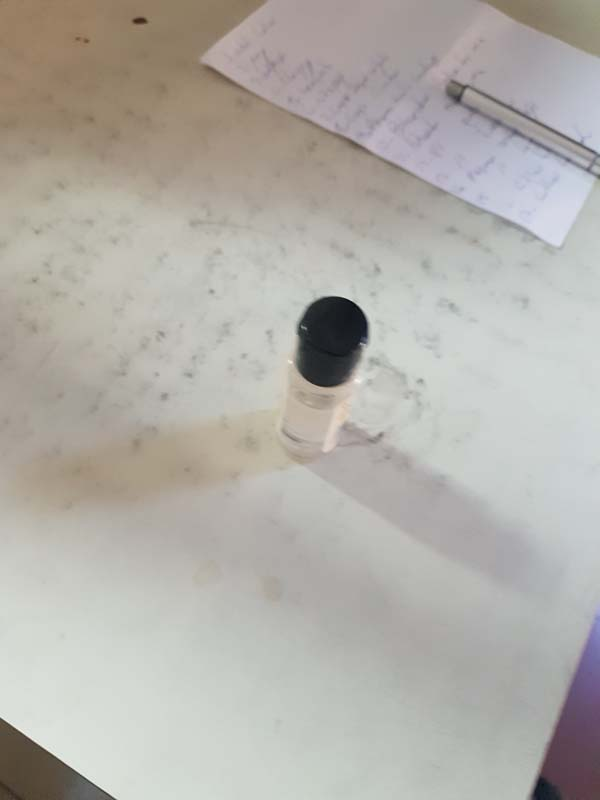redbulkolonya: (280, 292, 373, 469)
